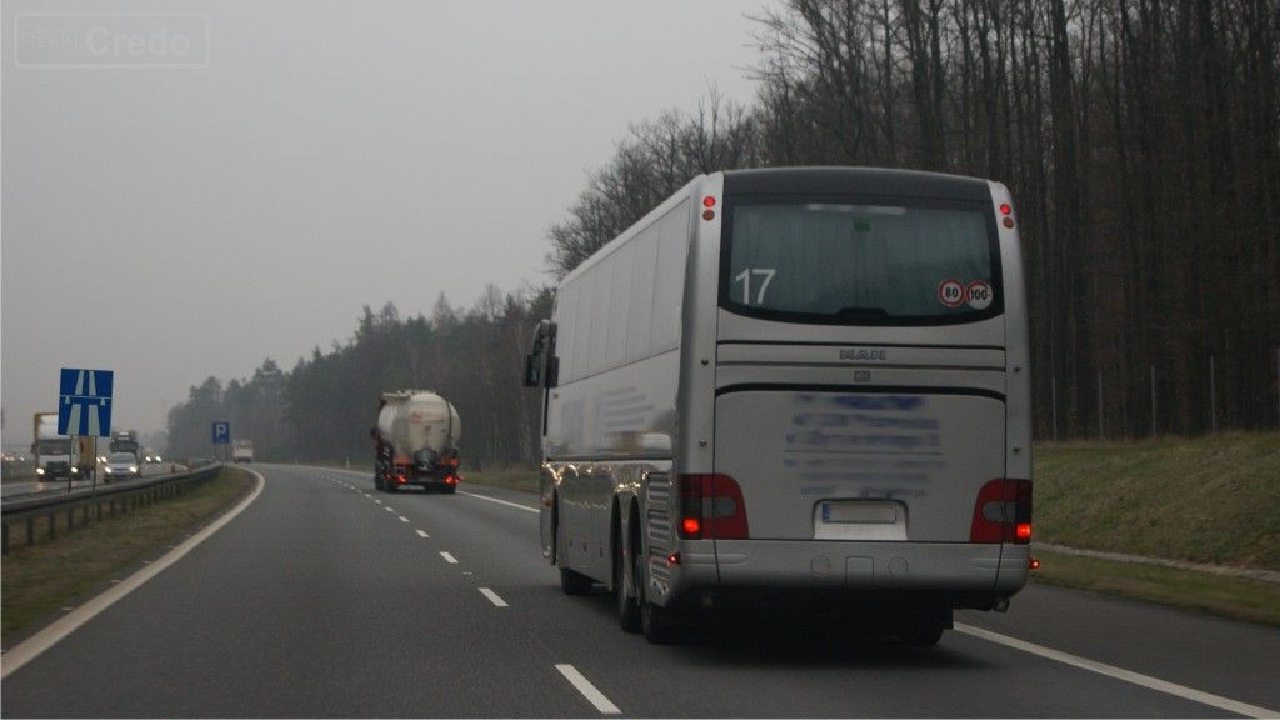D9: (61, 368, 111, 436)
